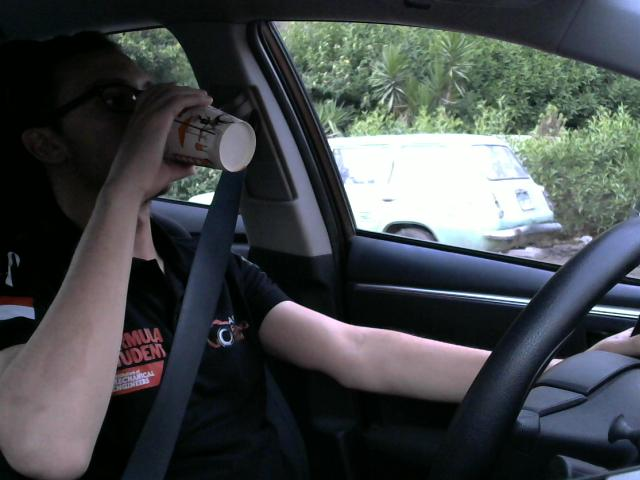Drinking: (115, 82, 261, 178)
